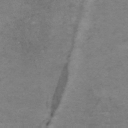finishing roll printing: (46, 0, 83, 126)
